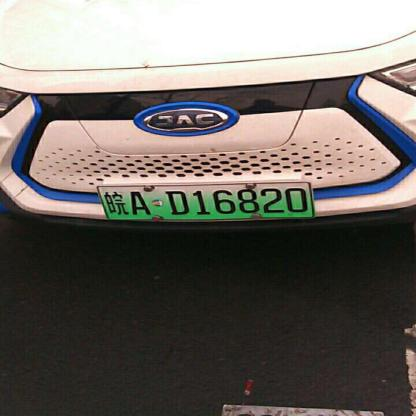lp: (96, 182, 314, 219)
